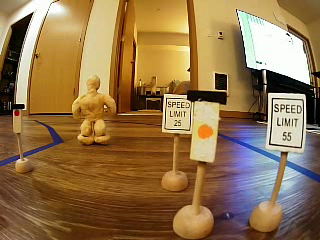Red traffic light: (5, 96, 32, 136)
person: (66, 67, 122, 148)
speed limit 25: (161, 79, 190, 137)
speed limit 55: (266, 85, 310, 155)
yellow traffic light: (194, 86, 226, 164)
